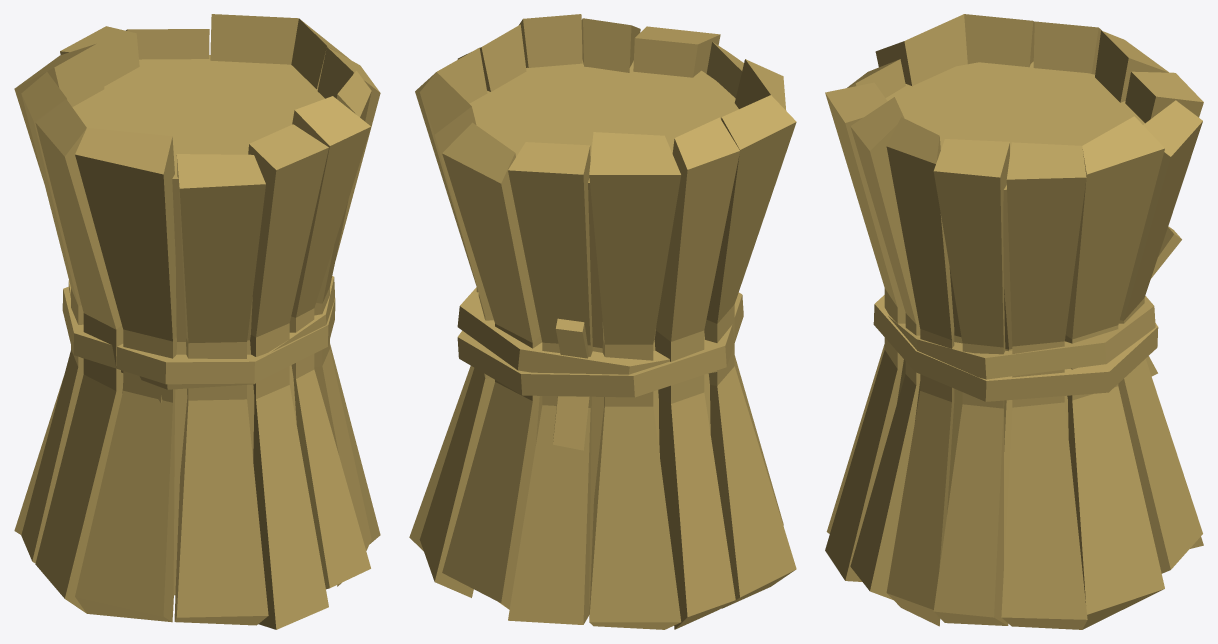
Rendered from Hay.glb.
3 views of the same model, side by side, from view 1: azimuth 30°, elevation 25°; view 2: azimuth 150°, elevation 25°; view 3: azimuth 270°, elevation 25° (orthographic).
Parts seen in each view (by area): view 1: Hay; view 2: Hay; view 3: Hay.
Part boxes in pixels (x1,y1,x2,y2): Hay: (14, 14, 380, 629); Hay: (409, 14, 796, 629); Hay: (825, 14, 1203, 629).
Size of the model in its own units: 0.121 by 0.1785 by 0.1249.
